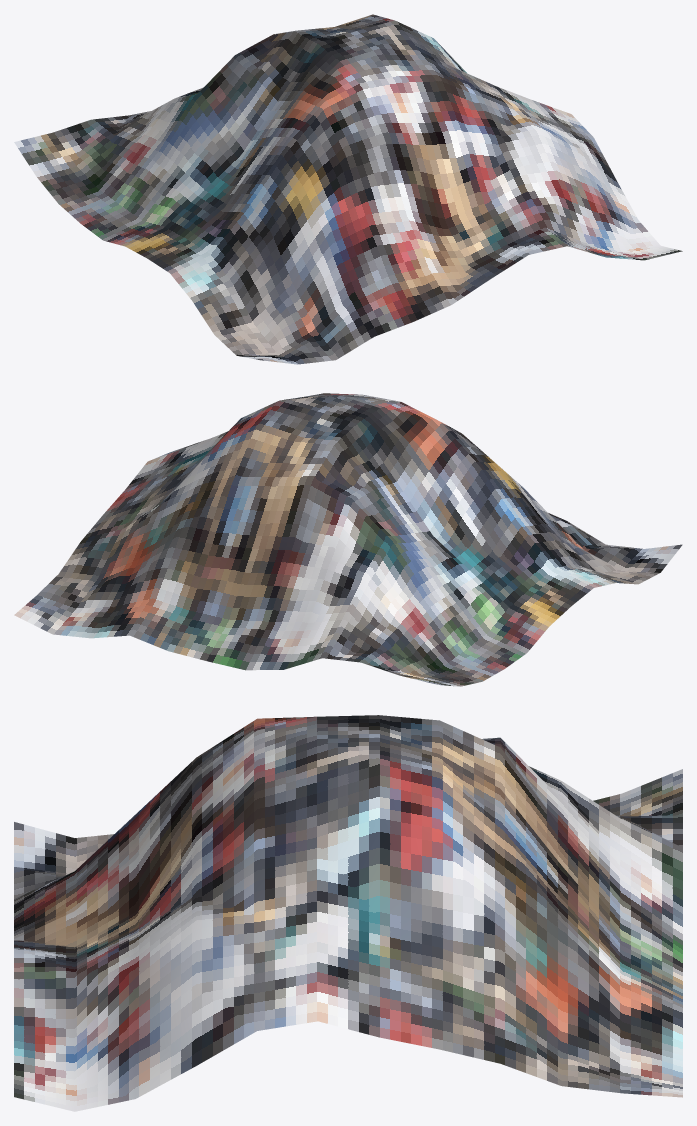
File: Trash.glb
The picture shows the model from 3 angles, top to bottom: view 1: azimuth 30°, elevation 25°; view 2: azimuth 150°, elevation 25°; view 3: azimuth 270°, elevation 25°; orthographic projection. The views are drawn at different scales.
Visible parts, largest first — view 1: Trash; view 2: Trash; view 3: Trash.
Boxes of the visible parts, left/top/right/bottom form: Trash: left=14, top=14, right=682, bottom=364; Trash: left=14, top=393, right=682, bottom=686; Trash: left=14, top=715, right=682, bottom=1111.
Bounding box in the file's own units: 2 × 0.8811 × 2.
1 material, 1 textured.
